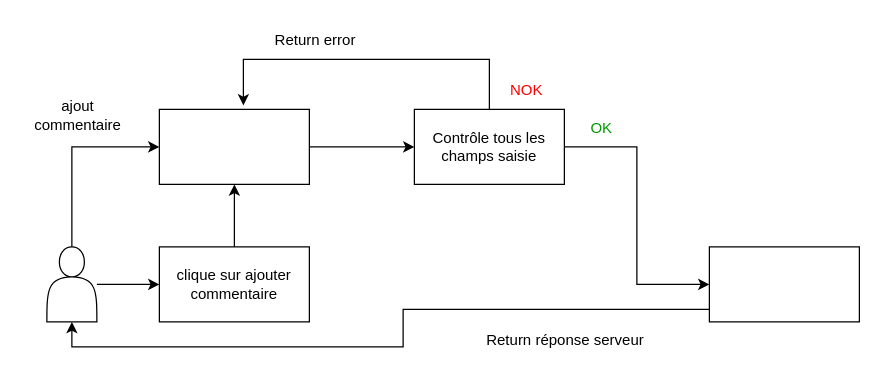
The diagram is 881 pixels wide and 380 high, and some of its shapes have lost their labels. Each missing label, with the centre of its shape:
Affichage overlay dépose commentaire: point (233, 146)
BackEnd: point (783, 284)
